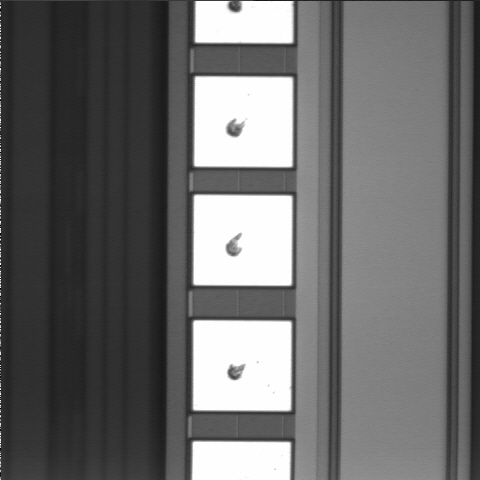pad: (194, 195, 292, 286), (193, 320, 291, 411), (194, 77, 293, 167)
